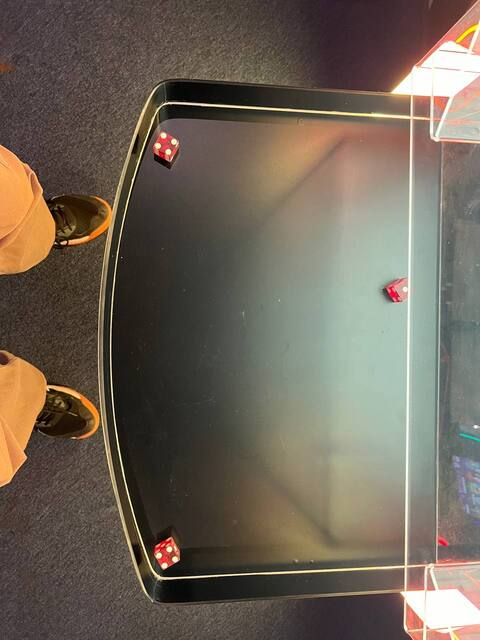four: (150, 128, 181, 161), (152, 543, 185, 573)
one: (392, 277, 412, 301)
